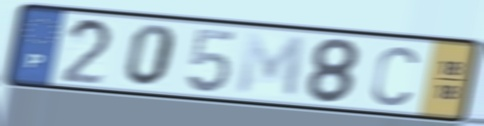0: (121, 23, 177, 89)
2: (56, 16, 118, 86)
5: (184, 26, 239, 94)
8: (306, 36, 362, 105)
C: (369, 43, 421, 108)
M: (234, 30, 308, 101)
